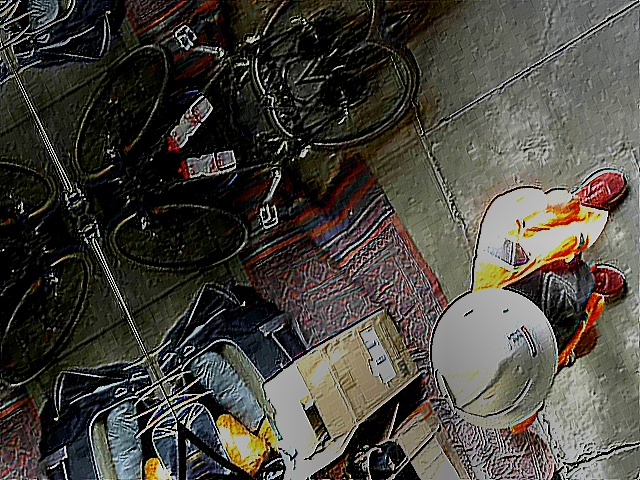one: (428, 367, 456, 412)
